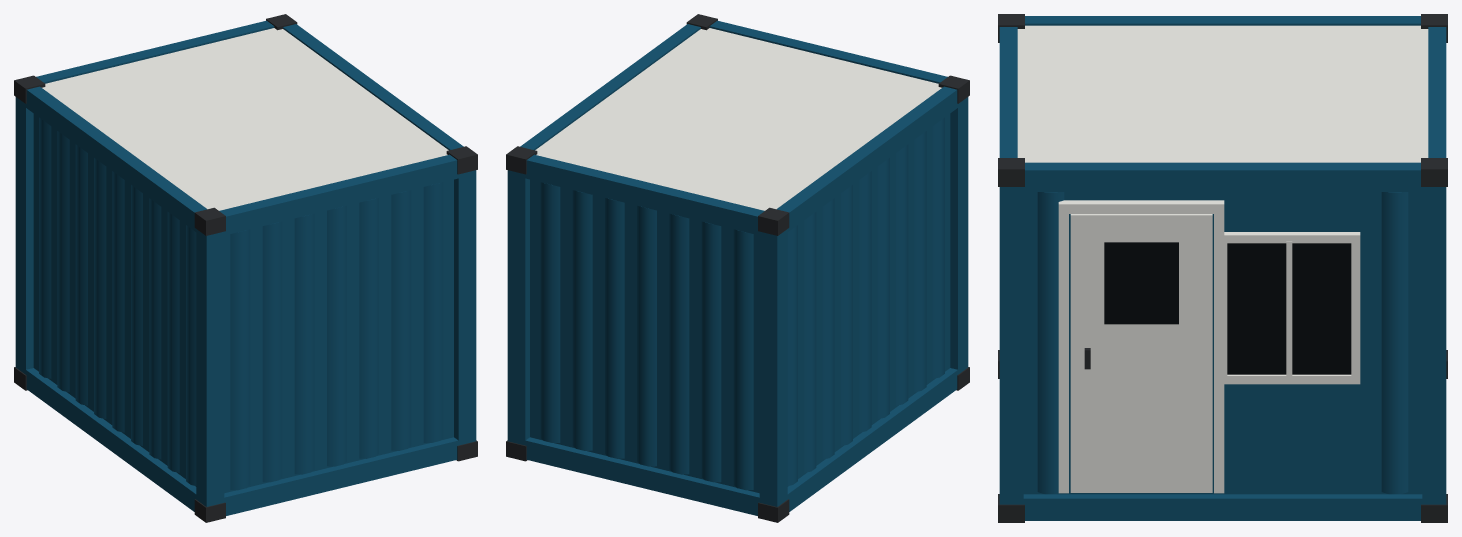
The model's file is plant.cabin.office_10.glb.
The picture shows the model from 3 angles, left to right: view 1: azimuth 30°, elevation 25°; view 2: azimuth 150°, elevation 25°; view 3: azimuth 270°, elevation 25°; orthographic projection. The views are drawn at different scales.
Visible parts, largest first — view 1: main__container_blue, frame__container_blue, main__paint_white, frame__steel_dark; view 2: main__container_blue, frame__container_blue, main__paint_white, frame__steel_dark; view 3: main__paint_white, main__container_blue, frame__container_blue, main__glass_dark, frame__steel_dark.
Boxes of the visible parts, x1,y1,x2,y2 form: main__container_blue: [33, 114, 453, 493]; frame__container_blue: [15, 20, 476, 515]; main__paint_white: [42, 28, 448, 210]; frame__steel_dark: [14, 14, 477, 522]; main__container_blue: [530, 114, 950, 493]; frame__container_blue: [507, 20, 968, 515]; main__paint_white: [535, 28, 941, 210]; frame__steel_dark: [506, 14, 969, 522]; main__paint_white: [1017, 25, 1428, 493]; main__container_blue: [1023, 192, 1422, 494]; frame__container_blue: [999, 16, 1446, 520]; main__glass_dark: [1104, 242, 1351, 374]; frame__steel_dark: [998, 14, 1447, 522].
Bounding box in the file's own units: 2.48 × 2.61 × 3.01.
